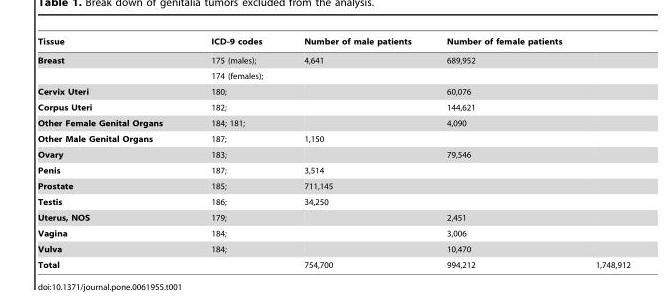table: (37, 36, 630, 269)
table column: (428, 36, 578, 269), (37, 36, 186, 269), (282, 36, 428, 269), (186, 36, 282, 269), (578, 36, 630, 269)
table column header: (37, 36, 630, 50)
table row: (37, 50, 630, 67), (37, 67, 630, 83), (37, 83, 630, 99), (37, 99, 630, 115), (37, 130, 630, 146), (37, 146, 630, 162), (37, 162, 630, 178), (37, 193, 630, 209), (37, 209, 630, 225), (37, 225, 630, 241), (37, 115, 630, 130), (37, 178, 630, 193), (37, 241, 630, 256), (37, 36, 630, 50), (37, 256, 630, 269)
table spanning cell: (37, 50, 186, 83)
